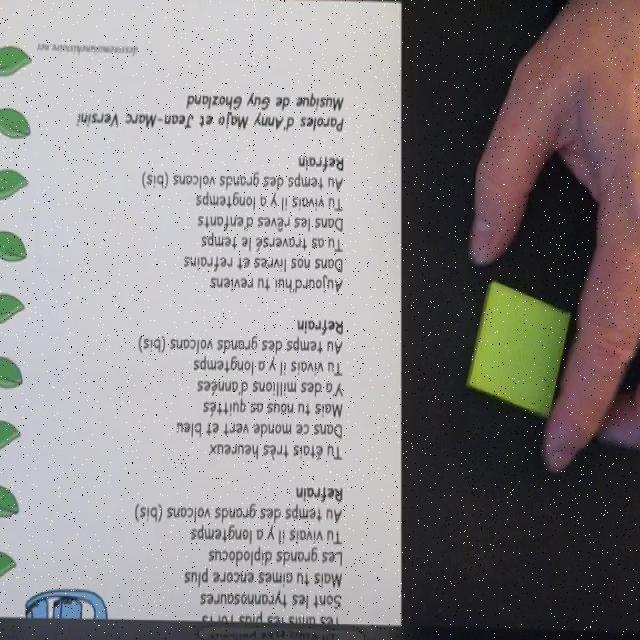square: (466, 279, 572, 419)
